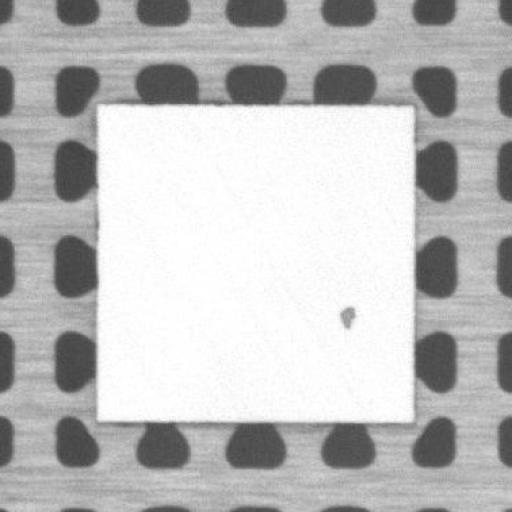DIE_INK: (339, 302, 355, 330)
